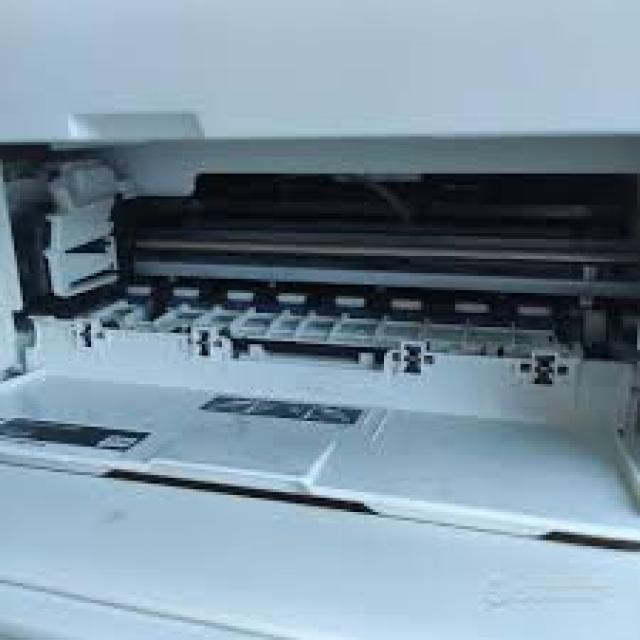printer: (0, 108, 637, 637)
